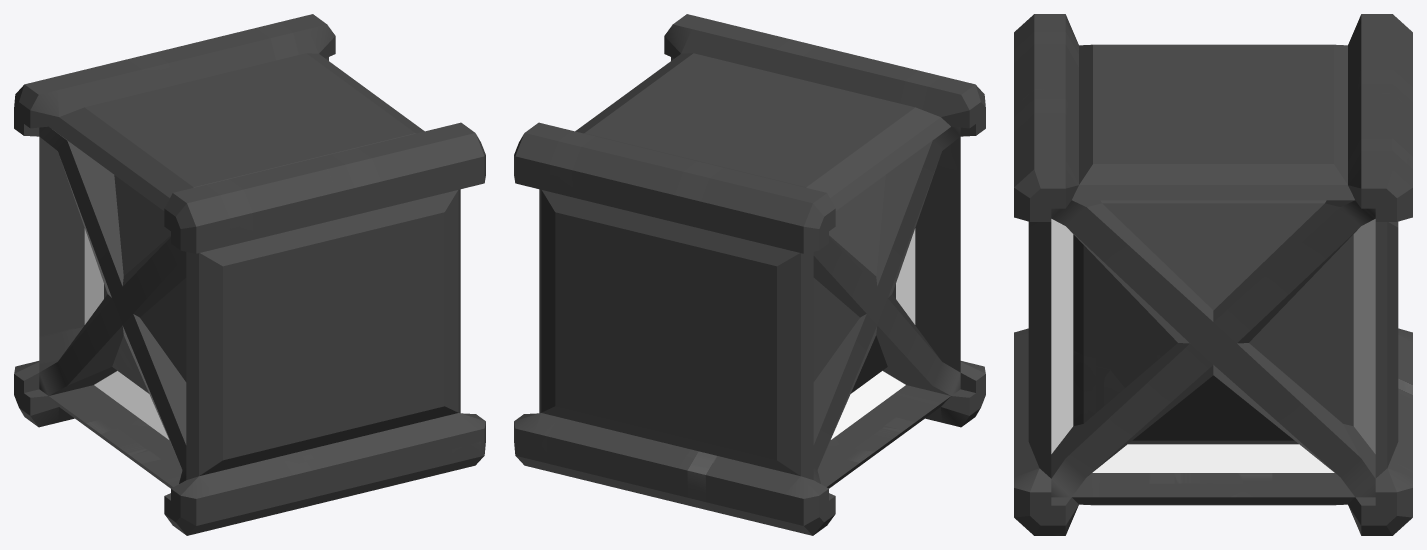
File: Crate.fbx
The picture shows the model from 3 angles, left to right: view 1: azimuth 30°, elevation 25°; view 2: azimuth 150°, elevation 25°; view 3: azimuth 270°, elevation 25°; orthographic projection. The views are drawn at different scales.
Parts seen in each view (by area): view 1: Storage_Crate; view 2: Storage_Crate; view 3: Storage_Crate.
Part boxes in pixels (bbox=[...]): Storage_Crate: bbox=[14, 14, 485, 535]; Storage_Crate: bbox=[514, 14, 985, 535]; Storage_Crate: bbox=[1014, 14, 1412, 535].
Size of the model in its own units: 1.31 by 1.36 by 1.34.
